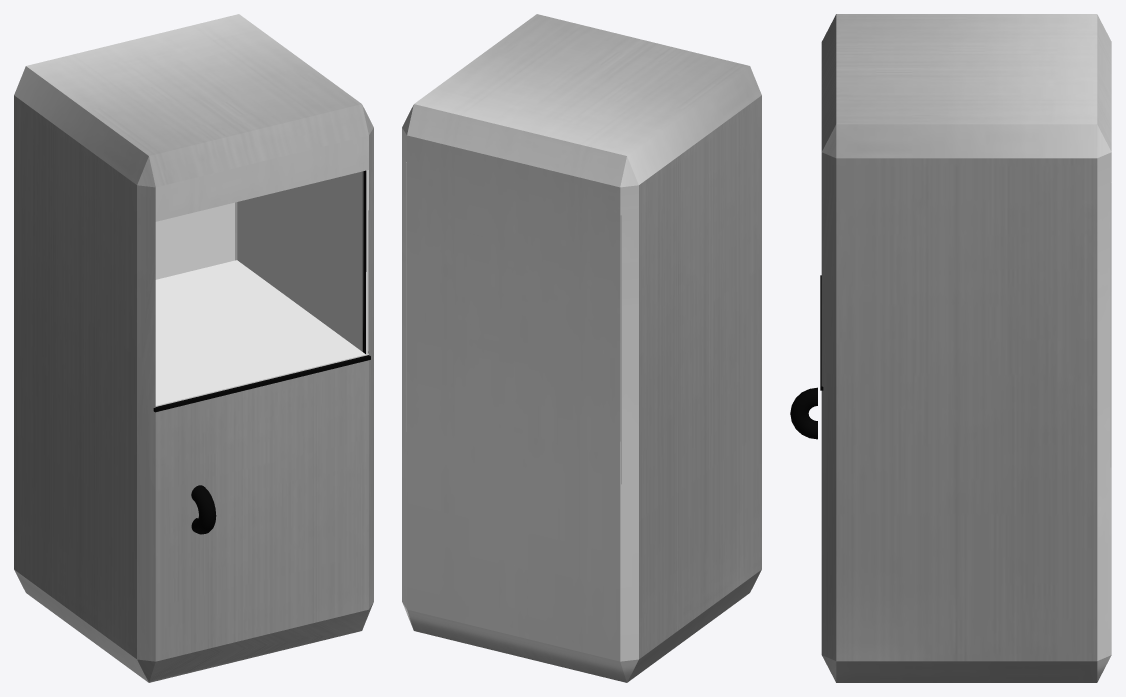
File: refri.obj
3 renders of one model, left to right at view 1: azimuth 30°, elevation 25°; view 2: azimuth 150°, elevation 25°; view 3: azimuth 270°, elevation 25°, orthographic. The views are drawn at different scales.
Parts seen in each view (by area): view 1: pCube14; view 2: pCube14; view 3: pCube14.
Part boxes in pixels (x1,y1,x2,y2): pCube14: (14, 14, 373, 682); pCube14: (402, 14, 761, 682); pCube14: (790, 14, 1111, 682).
Bounding box in the file's own units: 2.98 × 6.33 × 3.3.
Materials: 4 (3 with a texture image).
